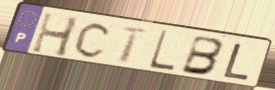B: (179, 33, 227, 77)
C: (72, 21, 114, 59)
H: (29, 10, 82, 59)
L: (146, 28, 177, 73), (220, 42, 252, 82)
T: (118, 25, 150, 66)
